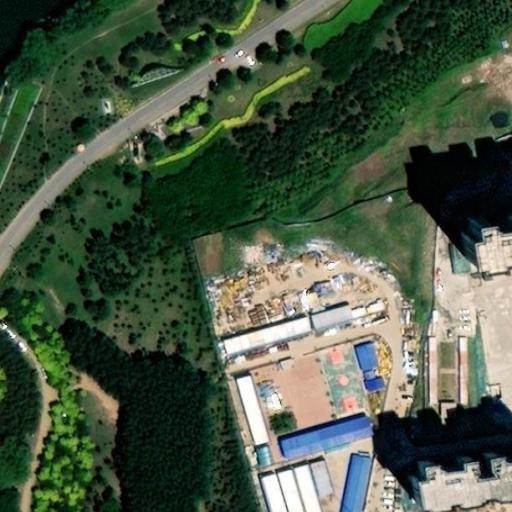building: (273, 409, 373, 460), (400, 462, 512, 502), (219, 310, 311, 355), (448, 205, 512, 261), (232, 368, 270, 444), (337, 448, 372, 512), (304, 298, 354, 331), (350, 336, 380, 371), (360, 367, 385, 392), (252, 438, 272, 465)
